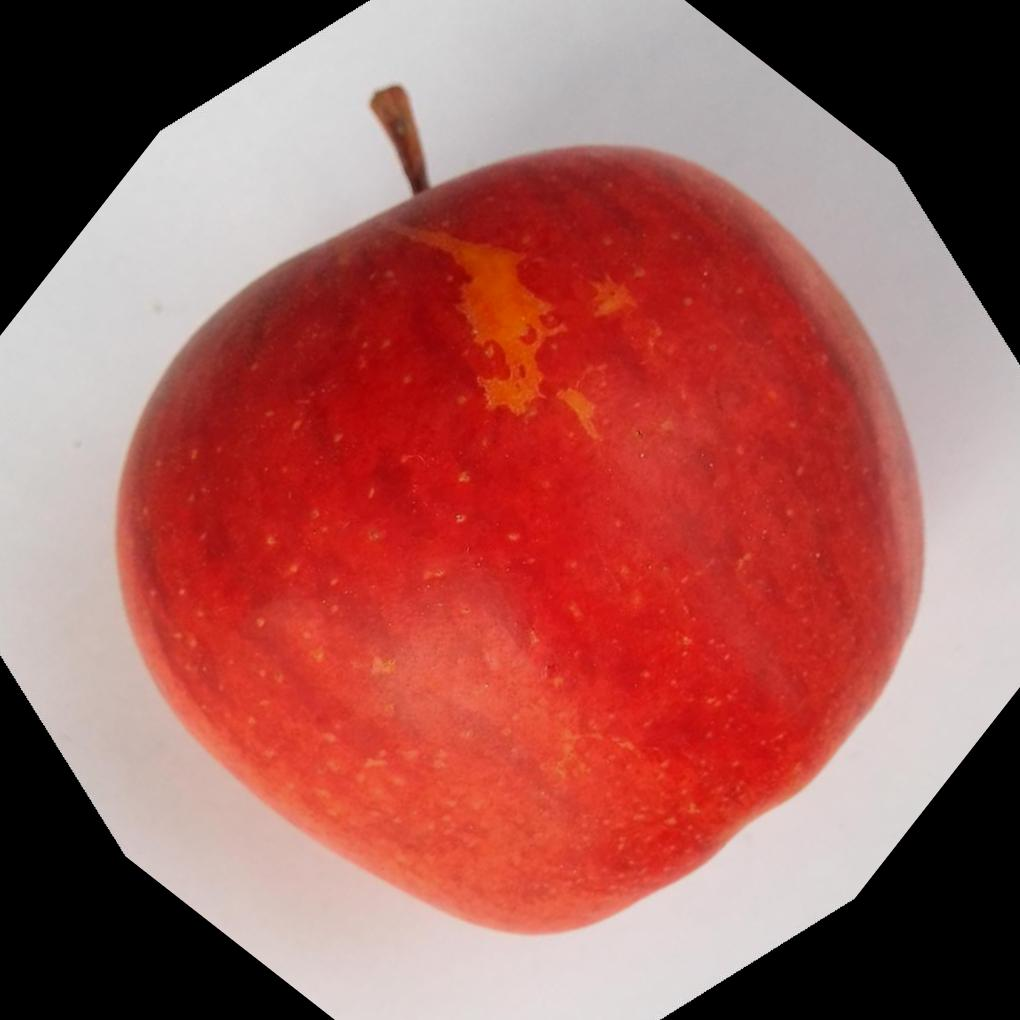FreshGuava: (112, 143, 932, 943)
